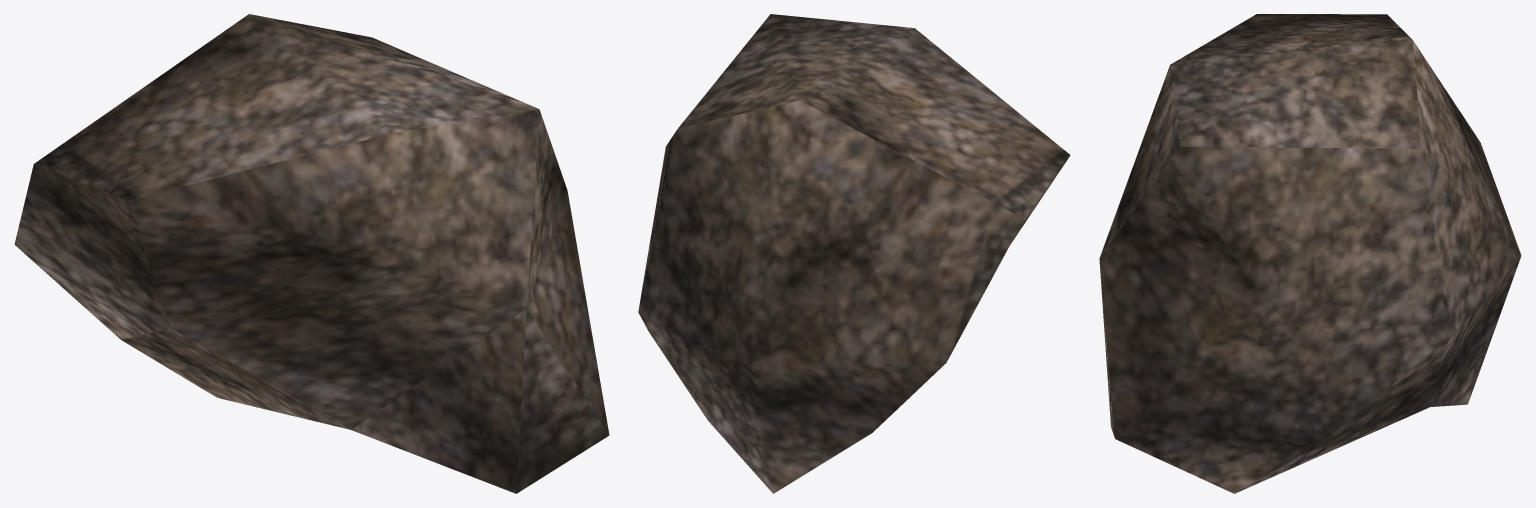
Rendered from Type1_Rock_huge_3.fbx.
The picture shows the model from 3 angles, left to right: view 1: azimuth 30°, elevation 25°; view 2: azimuth 150°, elevation 25°; view 3: azimuth 270°, elevation 25°; orthographic projection. The views are drawn at different scales.
Parts seen in each view (by area): view 1: Type1_Rock_huge_3; view 2: Type1_Rock_huge_3; view 3: Type1_Rock_huge_3.
Boxes of the visible parts, x1=… form: Type1_Rock_huge_3: x1=14, y1=14, x2=609, y2=493; Type1_Rock_huge_3: x1=638, y1=14, x2=1070, y2=493; Type1_Rock_huge_3: x1=1099, y1=14, x2=1521, y2=493.
Size of the model in its own units: 2.91 by 2.57 by 2.55.
